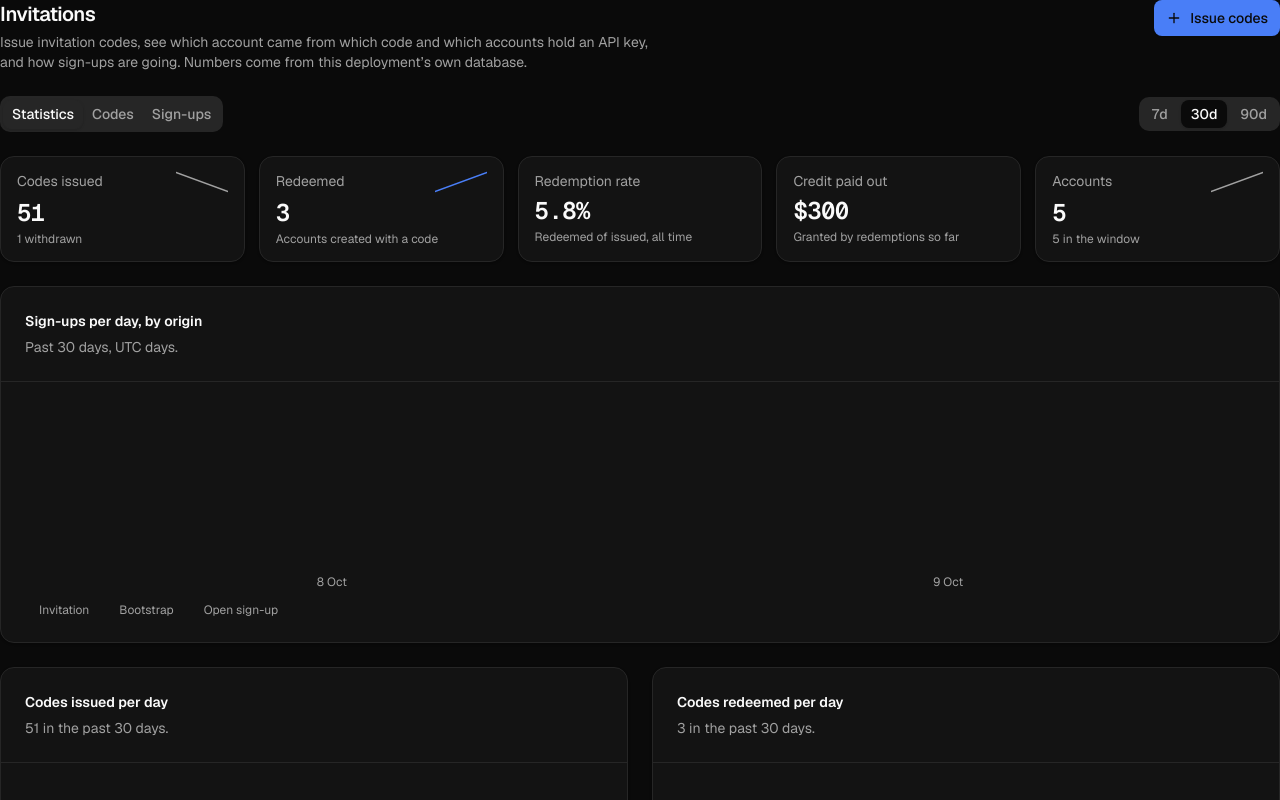
the accounts list as the place an operator credits one (SUP-406) › shows each account’s balance and offers to credit it
This screenshot has width=1280, height=800.
Click the tab "Sign-ups" at x=182, y=114, box top-left (143, 100), bottom-right (220, 128)
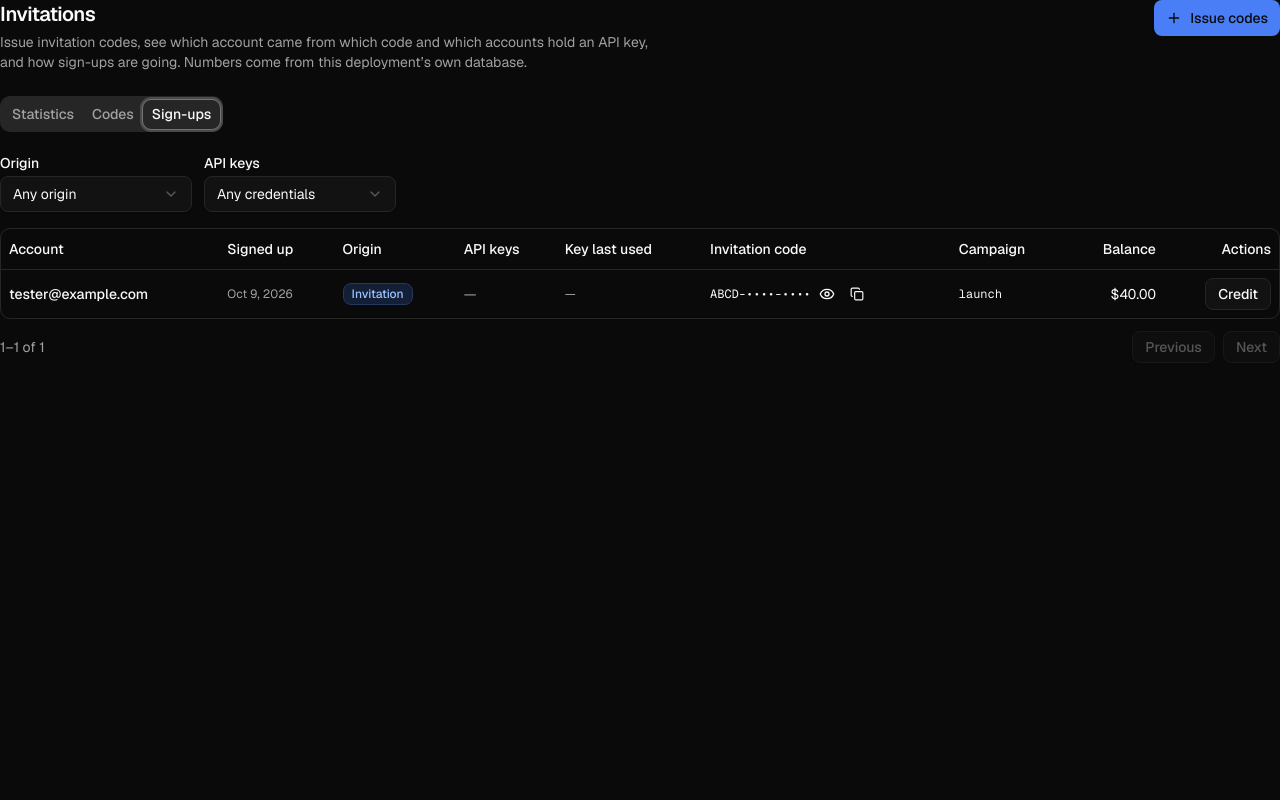
Expected: the row "tester@example.com" shows "$40.00", top-left (1111, 284), bottom-right (1156, 302)
Click the button "Credit" at x=1238, y=294, box top-left (1205, 278), bottom-right (1271, 310)
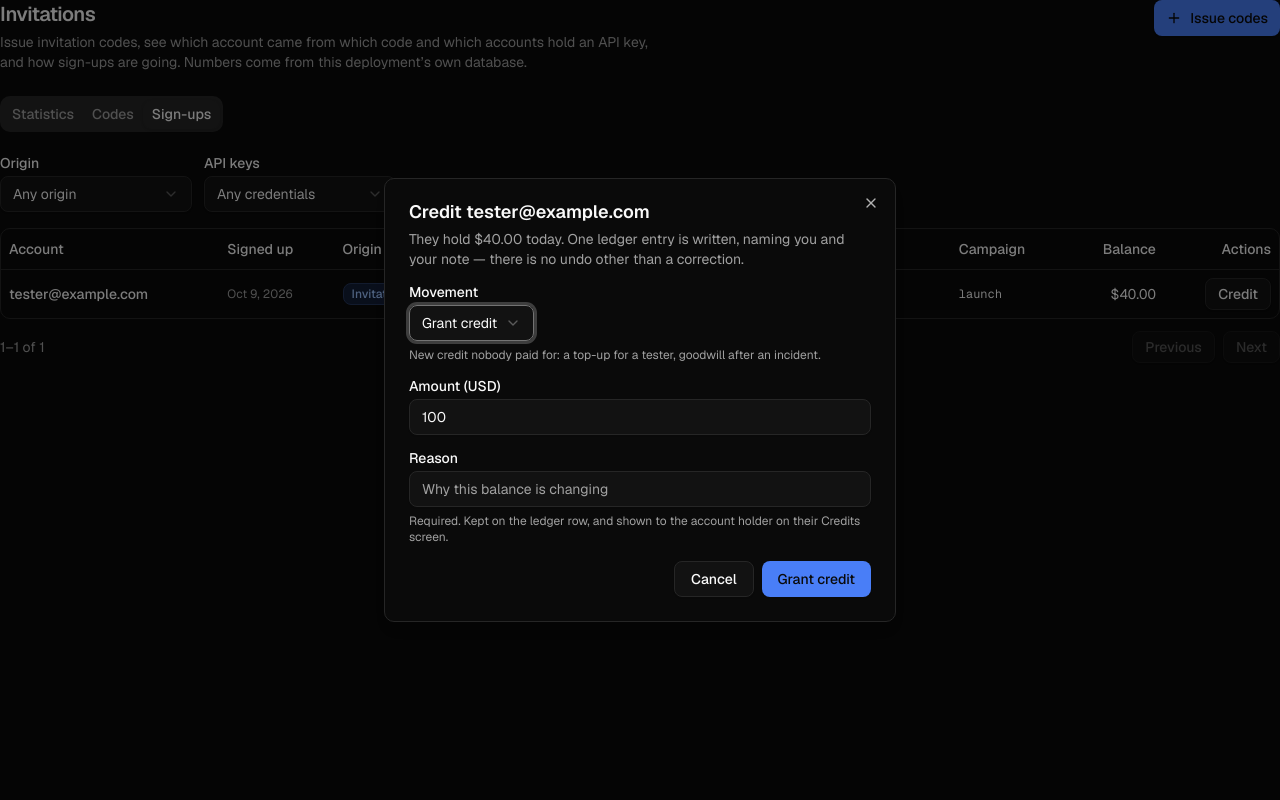
Expected: the dialog shows "Credit tester@example.com", top-left (384, 178), bottom-right (896, 622)
Expected: the dialog shows "They hold $40.00 today", top-left (409, 230), bottom-right (564, 248)
